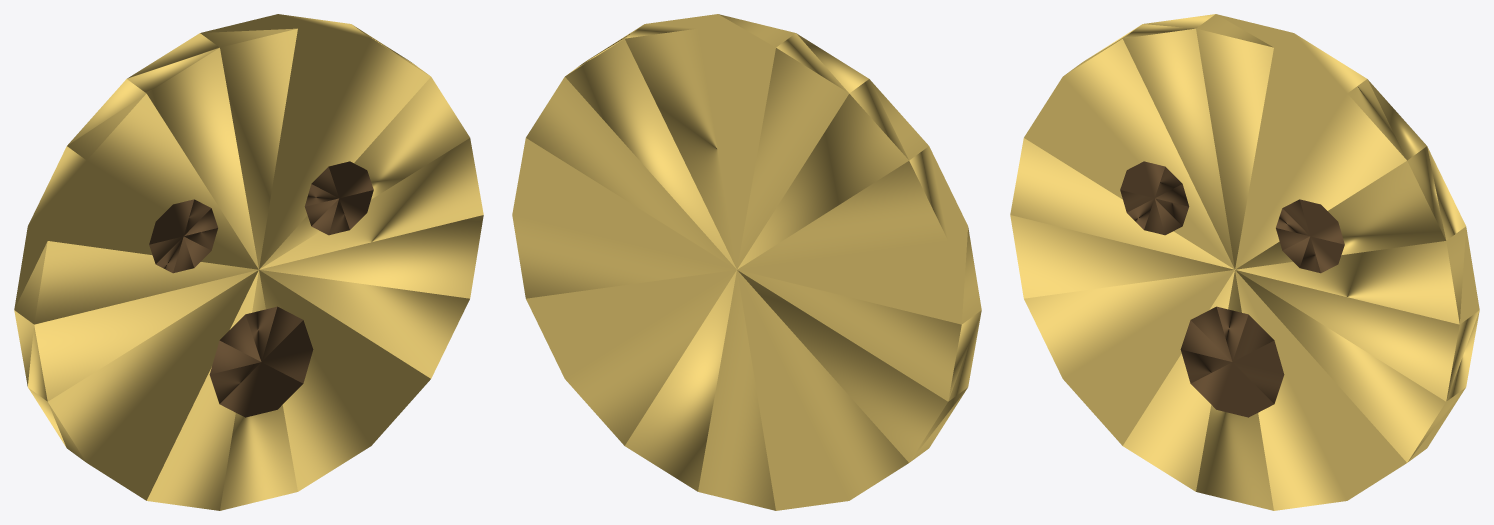
File: wow.glb
3 renders of one model, left to right at view 1: azimuth 30°, elevation 25°; view 2: azimuth 150°, elevation 25°; view 3: azimuth 330°, elevation 25°, orthographic.
Parts seen in each view (by area): view 1: wow; view 2: wow; view 3: wow.
Boxes of the visible parts, x1,y1,x2,y2 form: wow: [14, 14, 483, 510]; wow: [512, 14, 981, 510]; wow: [1010, 14, 1479, 510].
Size of the model in its own units: 1.04 by 1.02 by 0.09.
